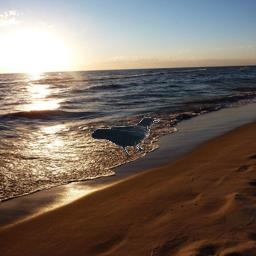Crow: (91, 117, 160, 157)
